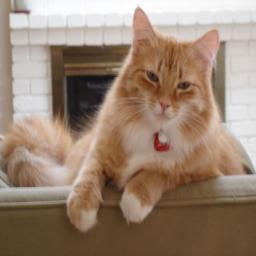catnose: (159, 100, 172, 111)
